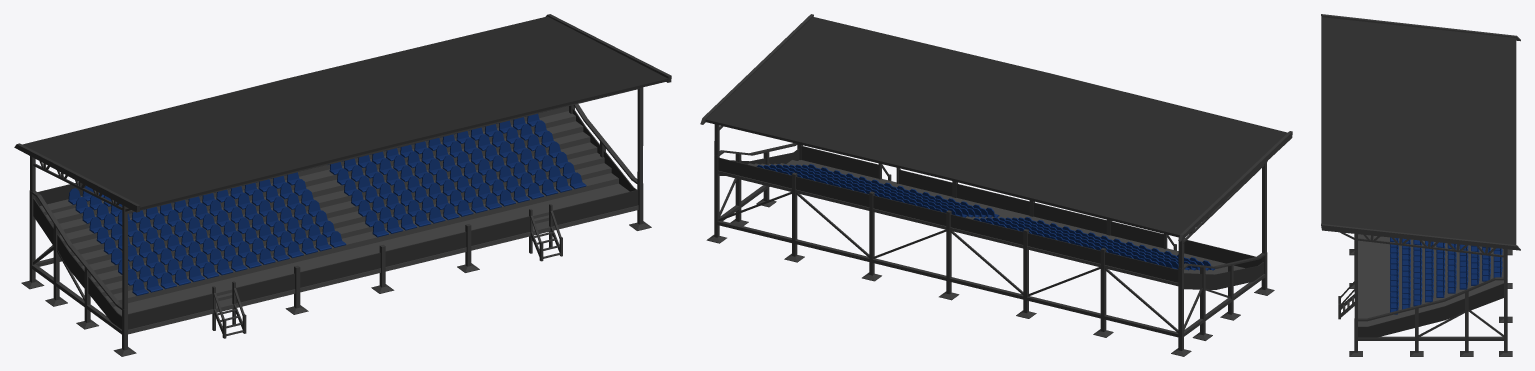
Rendered from LP_Grandstand_01.fbx.
3 views of the same model, side by side, from view 1: azimuth 30°, elevation 25°; view 2: azimuth 150°, elevation 25°; view 3: azimuth 270°, elevation 25° (orthographic). The views are drawn at different scales.
Parts seen in each view (by area): view 1: LP_Grandstand_01, LP_Roof; view 2: LP_Roof, LP_Grandstand_01; view 3: LP_Roof, LP_Grandstand_01.
Boxes of the visible parts, left/top/right/bottom form: LP_Grandstand_01: left=21, top=104, right=651, bottom=356; LP_Roof: left=14, top=14, right=671, bottom=309; LP_Roof: left=700, top=14, right=1292, bottom=268; LP_Grandstand_01: left=706, top=143, right=1274, bottom=356; LP_Roof: left=1321, top=14, right=1520, bottom=319; LP_Grandstand_01: left=1338, top=234, right=1512, bottom=356.
Size of the model in its own units: 35.64 by 10.47 by 14.27.
